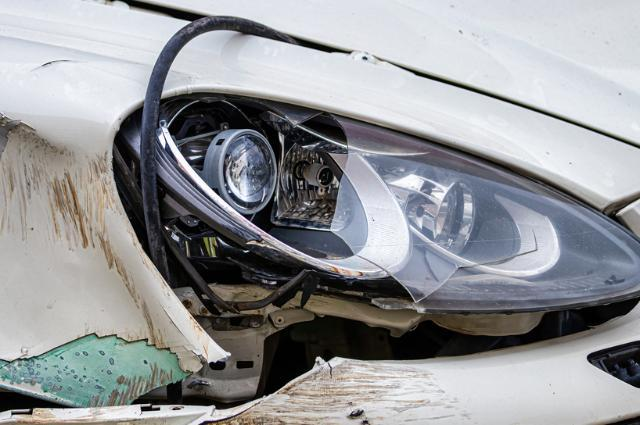Bumper: (0, 299, 640, 425)
Fender: (0, 0, 640, 416)
Light: (116, 93, 640, 323)
